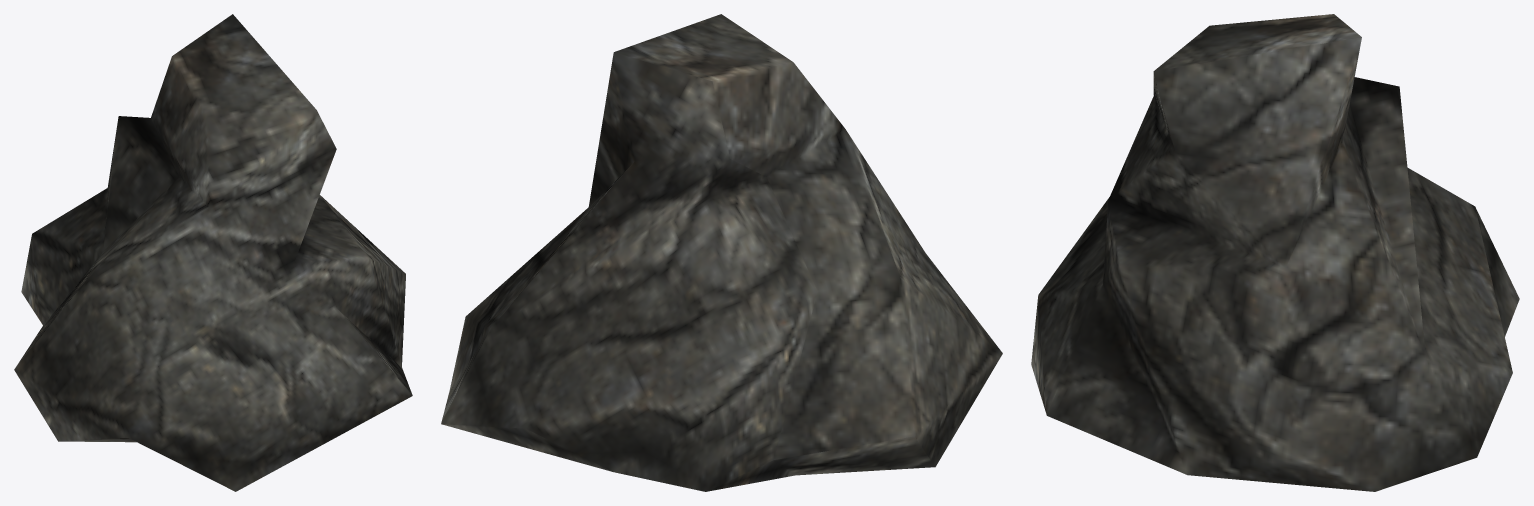
Rendered from Stal9A_LOD1.fbx.
3 views of the same model, side by side, from view 1: azimuth 30°, elevation 25°; view 2: azimuth 150°, elevation 25°; view 3: azimuth 270°, elevation 25° (orthographic). The views are drawn at different scales.
Visible parts, largest first — view 1: polySurface18; view 2: polySurface18; view 3: polySurface18.
Boxes of the visible parts, left/top/right/bottom form: polySurface18: left=14, top=14, right=412, bottom=491; polySurface18: left=441, top=14, right=1002, bottom=491; polySurface18: left=1031, top=14, right=1519, bottom=491.
Bounding box in the file's own units: 4.87 × 4.12 × 4.49.
